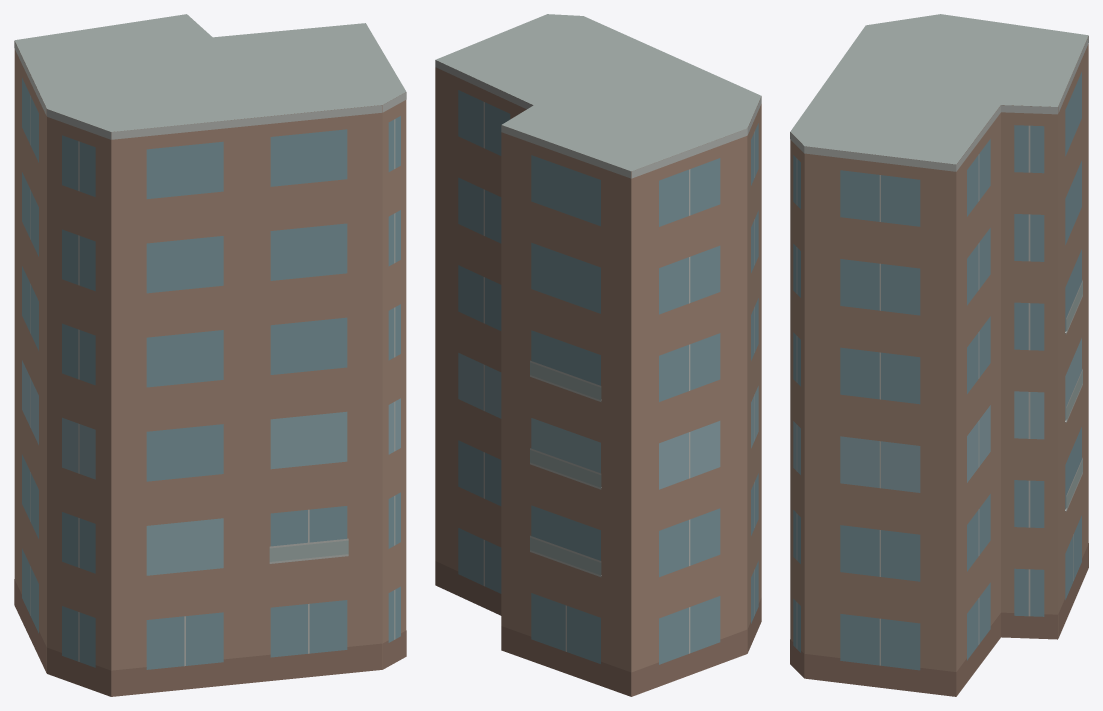
The model's file is survey-upis-33022854.glb.
The picture shows the model from 3 angles, left to right: view 1: azimuth 30°, elevation 25°; view 2: azimuth 150°, elevation 25°; view 3: azimuth 270°, elevation 25°; orthographic projection. The views are drawn at different scales.
Parts seen in each view (by area): view 1: survey-upis-33022854.tmp; view 2: survey-upis-33022854.tmp; view 3: survey-upis-33022854.tmp.
Part boxes in pixels (x1=…): survey-upis-33022854.tmp: x1=14, y1=14, x2=406, y2=696; survey-upis-33022854.tmp: x1=435, y1=14, x2=761, y2=696; survey-upis-33022854.tmp: x1=790, y1=14, x2=1088, y2=696.
Size of the model in its own units: 10.74 by 17.7 by 9.01.
